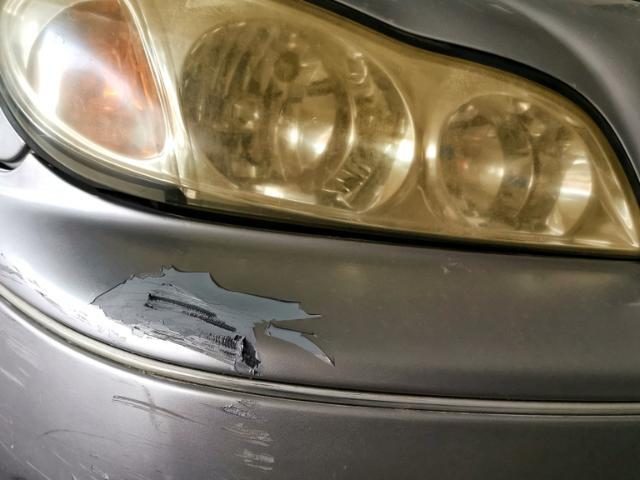Bumper: (0, 158, 361, 480)
